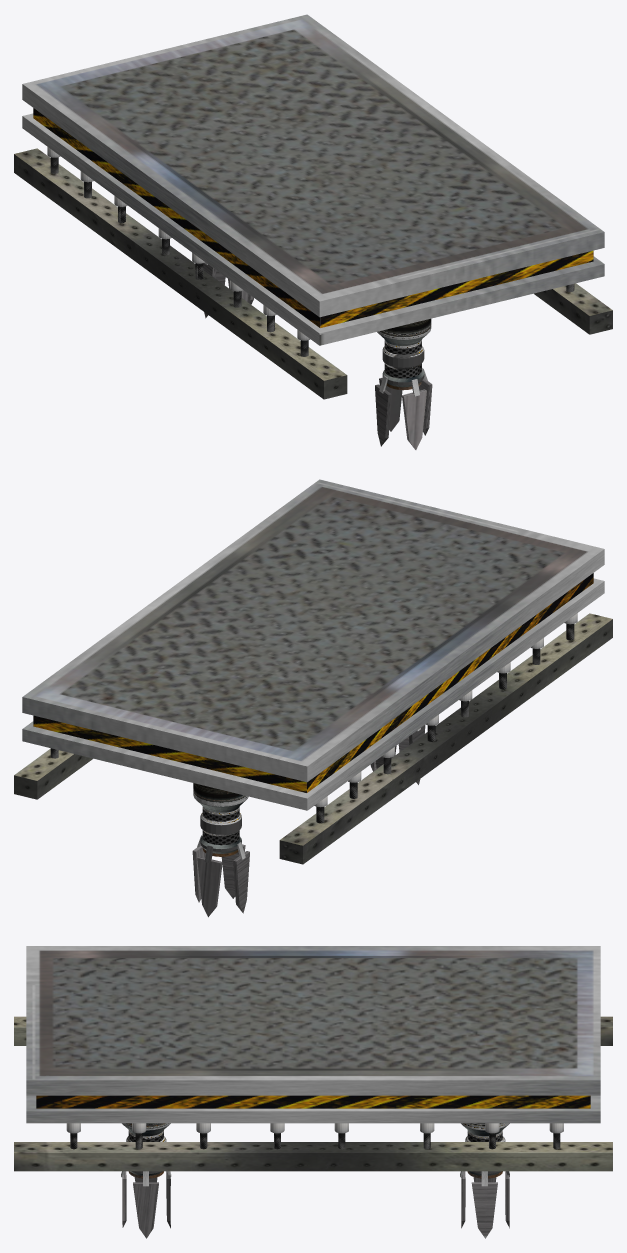
Rendered from Platform1float.fbx.
3 views of the same model, one above another, from view 1: azimuth 30°, elevation 25°; view 2: azimuth 150°, elevation 25°; view 3: azimuth 270°, elevation 25° (orthographic). The views are drawn at different scales.
Visible parts, largest first — view 1: Mesh; view 2: Mesh; view 3: Mesh.
Part boxes in pixels (bbox=[...]): Mesh: bbox=[14, 14, 612, 449]; Mesh: bbox=[14, 479, 612, 917]; Mesh: bbox=[14, 946, 612, 1238].
Bounding box in the file's own units: 420 × 307 × 780.
